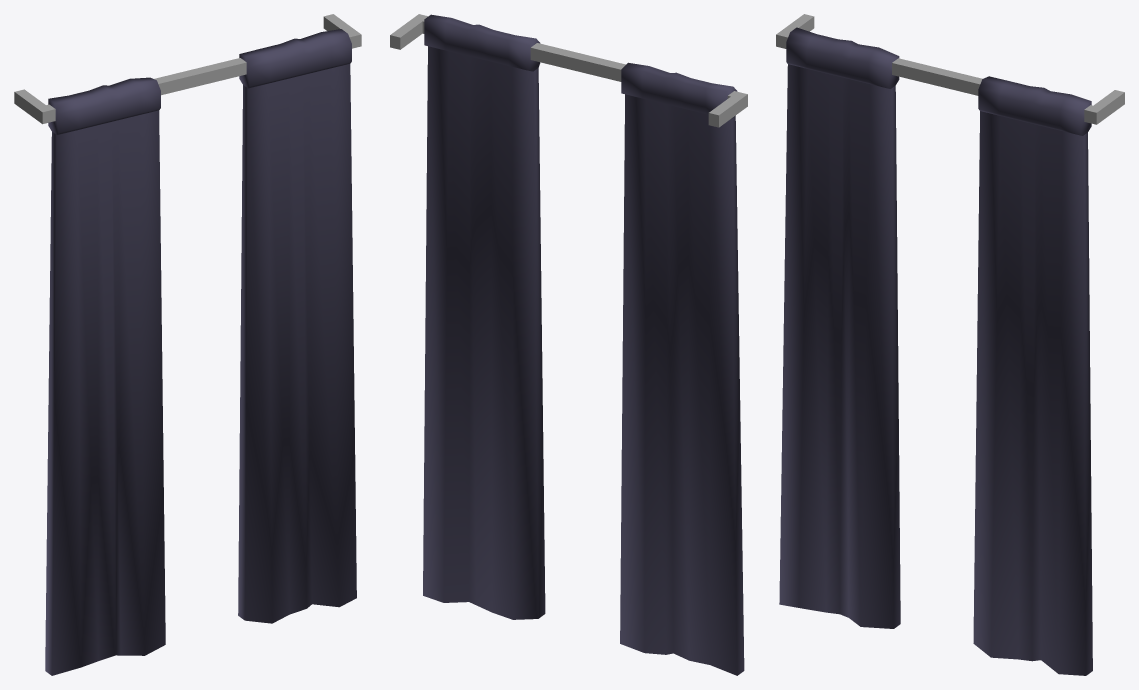
Rendered from curtain.fbx.
3 views of the same model, side by side, from view 1: azimuth 30°, elevation 25°; view 2: azimuth 150°, elevation 25°; view 3: azimuth 330°, elevation 25° (orthographic). The views are drawn at different scales.
Parts seen in each view (by area): view 1: Curtain; view 2: Curtain; view 3: Curtain.
Boxes of the visible parts, box(x1,y1,x2,y2) form: Curtain: box(14, 14, 361, 675); Curtain: box(390, 14, 747, 675); Curtain: box(776, 14, 1124, 675).
Bounding box in the file's own units: 147 × 29.73 × 251.
